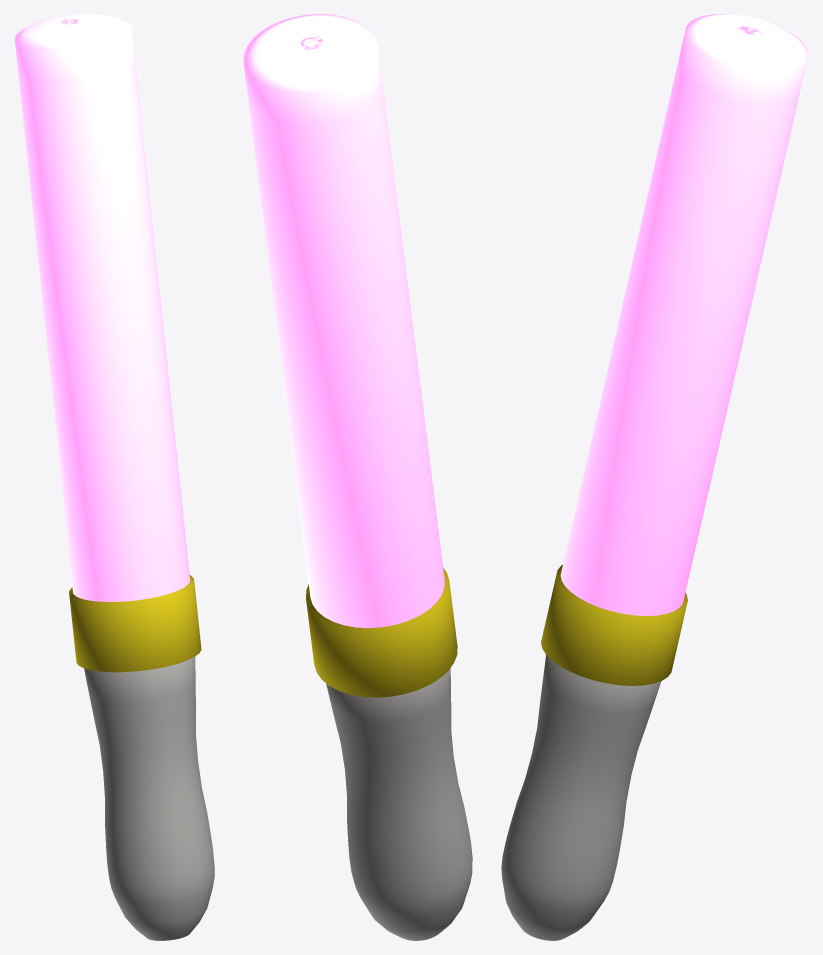
The model's file is blademove (1).fbx.
The picture shows the model from 3 angles, left to right: view 1: azimuth 30°, elevation 25°; view 2: azimuth 150°, elevation 25°; view 3: azimuth 270°, elevation 25°; orthographic projection. The views are drawn at different scales.
Visible parts, largest first — view 1: blade; view 2: blade; view 3: blade.
Part boxes in pixels (bbox=[...]): blade: bbox=[14, 14, 214, 940]; blade: bbox=[243, 14, 472, 940]; blade: bbox=[501, 14, 808, 940].
Bounding box in the file's own units: 320 × 2380 × 731.
